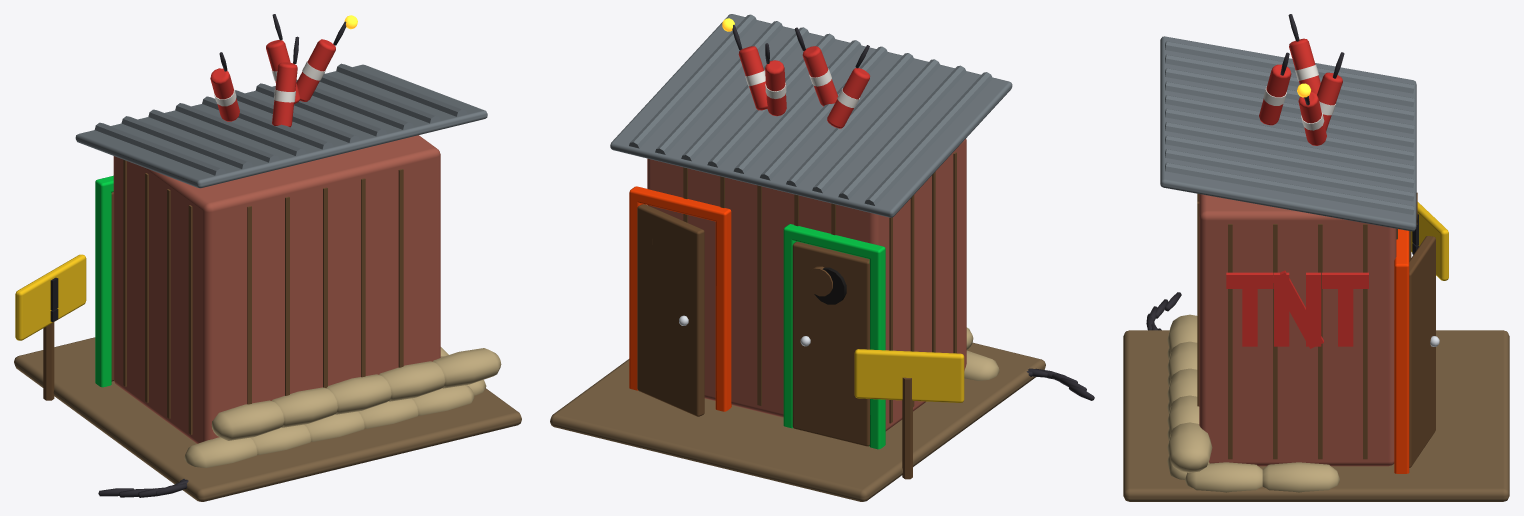
File: building_explosive_warehouse_t1.glb
The picture shows the model from 3 angles, left to right: view 1: azimuth 30°, elevation 25°; view 2: azimuth 150°, elevation 25°; view 3: azimuth 270°, elevation 25°; orthographic projection. The views are drawn at different scales.
Parts seen in each view (by area): view 1: Walls, Lot, Roof.Sheet, Roof.Ridge, PlanksB.Groove, PlanksL.Groove, Danger.Board, Entry.Jamb, Bags10.Bag, Bags14.Bag, Bags13.Bag, Bags12.Bag (+12 smaller); view 2: Walls, Roof.Sheet, Lot, Roof.Ridge, Exit.Leaf, Entry.Leaf, Danger.Board, Exit.Jamb, PlanksL.Groove, Entry.Jamb, Entry.Jamb.001, PlanksF.Groove (+11 smaller); view 3: Walls, Lot, Roof.Ridge, Roof.Sheet, Exit.Leaf, PlanksR.Groove, Exit.Jamb.001, BagsR01.Bag, BagsR00.Bag, Bags14.Bag, Danger.Board, TNT.Stroke.003 (+16 smaller).
Boxes of the visible parts, x1,y1,x2,y2 form: Walls: (113,135,440,443); Lot: (14,337,521,501); Roof.Sheet: (75,64,487,188); Roof.Ridge: (94,63,467,175); PlanksB.Groove: (247,169,403,404); PlanksL.Groove: (123,159,192,434); Danger.Board: (15,254,86,340); Entry.Jamb: (95,189,111,387); Bags10.Bag: (211,400,284,440); Bags14.Bag: (433,348,501,388); Bags13.Bag: (379,361,445,401); Bags12.Bag: (326,374,391,414); Walls: (647,139,966,431); Roof.Sheet: (610,14,1012,217); Lot: (550,342,1045,501); Roof.Ridge: (629,14,992,205); Exit.Leaf: (637,204,704,416); Entry.Leaf: (792,241,869,446); Danger.Board: (854,349,964,402); Exit.Jamb: (715,219,731,411); PlanksL.Groove: (889,152,956,423); Entry.Jamb: (869,256,885,449); Entry.Jamb.001: (783,237,796,428); PlanksF.Groove: (683,167,835,405); Walls: (1199,194,1396,466); Lot: (1123,330,1509,501); Roof.Ridge: (1165,41,1414,214); Roof.Sheet: (1160,36,1416,231); Exit.Leaf: (1409,236,1435,467); PlanksR.Groove: (1228,224,1367,459); Exit.Jamb.001: (1394,273,1409,473); BagsR01.Bag: (1262,462,1339,492); BagsR00.Bag: (1185,462,1262,492); Bags14.Bag: (1167,422,1212,472); Danger.Board: (1411,202,1448,280); TNT.Stroke.003: (1306,272,1321,346).
Size of the model in its own units: 2.57 by 2.24 by 2.06.
